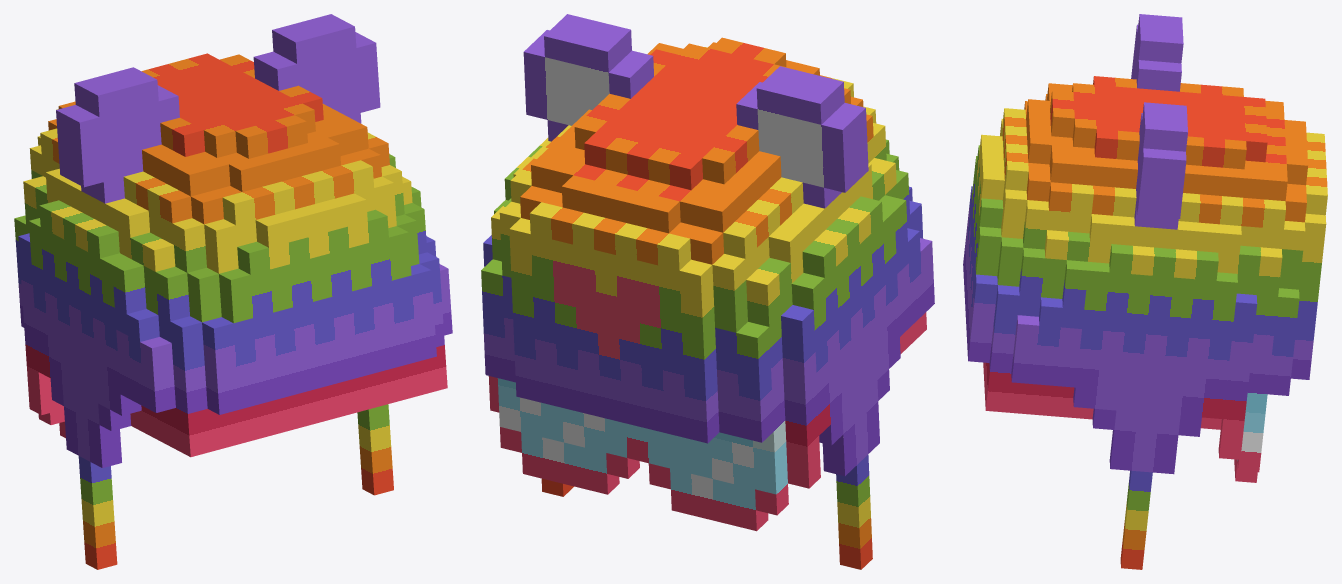
Rendered from Cozy_Hat_with_Ski_Glasses_-_Care_Bears.gltf.
3 renders of one model, left to right at view 1: azimuth 30°, elevation 25°; view 2: azimuth 150°, elevation 25°; view 3: azimuth 270°, elevation 25°, orthographic. The views are drawn at different scales.
Parts seen in each view (by area): view 1: Equip_Head-Local; view 2: Equip_Head-Local; view 3: Equip_Head-Local.
Part boxes in pixels (<box>): Equip_Head-Local: <box>14,14,452,569</box>; Equip_Head-Local: <box>481,14,934,569</box>; Equip_Head-Local: <box>963,14,1327,569</box>.
Size of the model in its own units: 15.32 by 22.26 by 16.99.
1 material, 1 textured.
